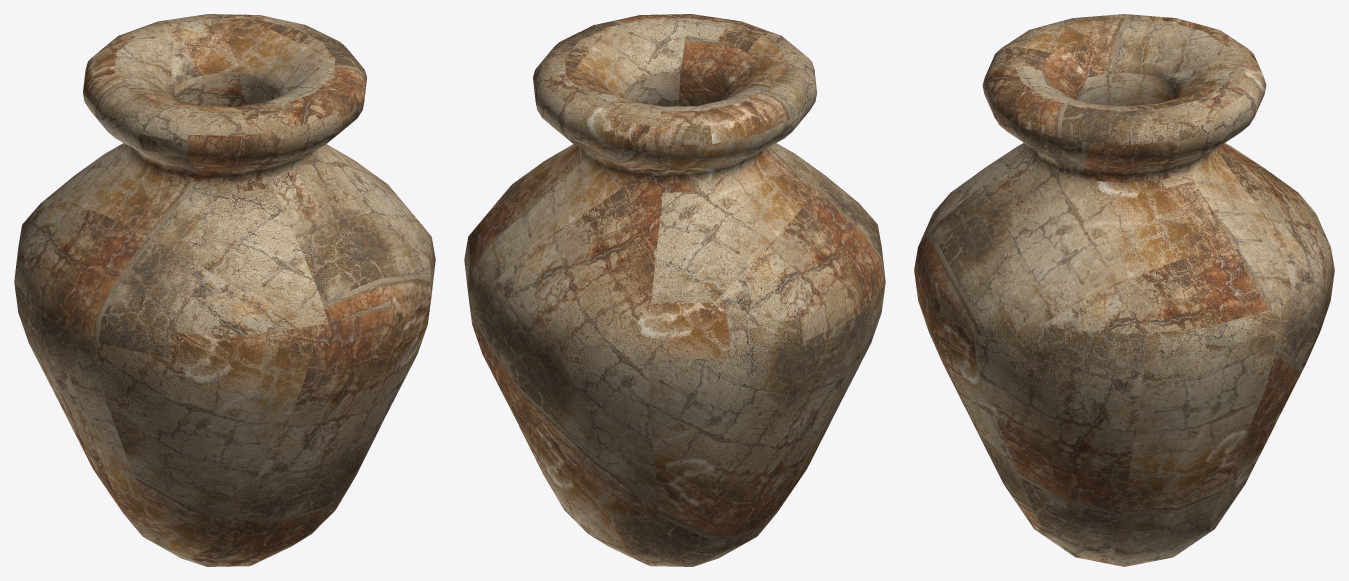
File: peca.glb
3 views of the same model, side by side, from view 1: azimuth 30°, elevation 25°; view 2: azimuth 150°, elevation 25°; view 3: azimuth 270°, elevation 25° (orthographic).
Visible parts, largest first — view 1: Cube; view 2: Cube; view 3: Cube.
Part boxes in pixels (box(x1,y1,x2,y2)): Cube: box(14, 14, 435, 566); Cube: box(464, 14, 885, 566); Cube: box(914, 14, 1334, 566).
Size of the model in its own units: 1.79 by 2.31 by 1.79.
Materials: 1 (1 with a texture image).
